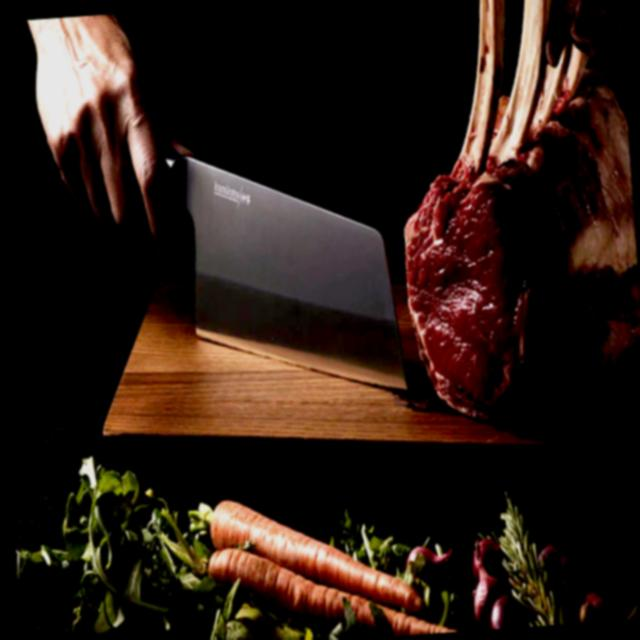cleaver: (26, 0, 414, 427)
